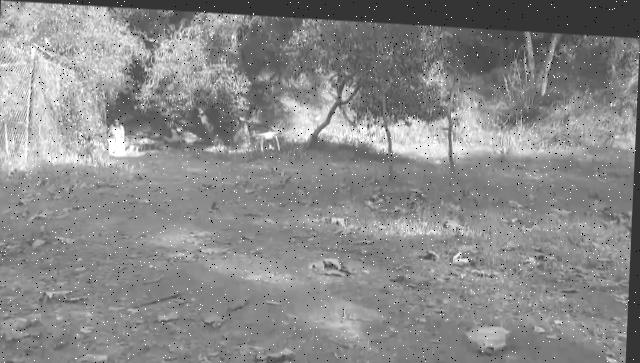drone: (247, 121, 289, 149)
